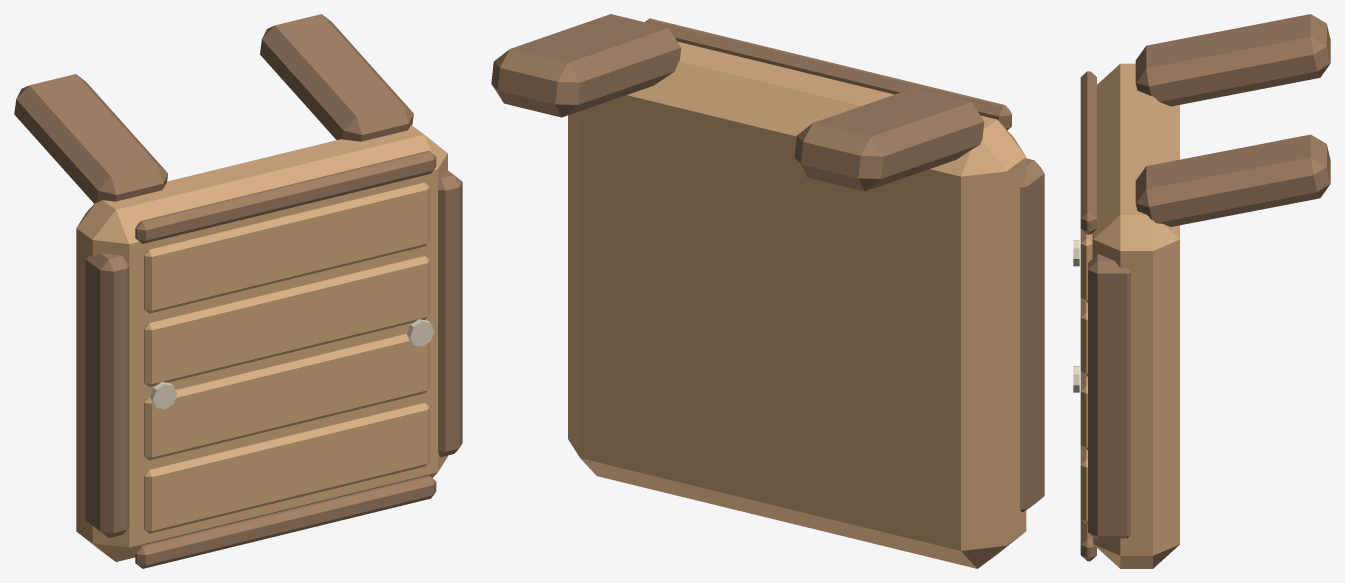
Rendered from WoodChestArmor.glb.
3 views of the same model, side by side, from view 1: azimuth 30°, elevation 25°; view 2: azimuth 150°, elevation 25°; view 3: azimuth 270°, elevation 25° (orthographic). The views are drawn at different scales.
Visible parts, largest first — view 1: ChestShell, WoodFrontBoard_0, WoodFrontBoard_3, WoodFrontBoard_2, WoodFrontBoard_1, ChestSideWrap_L, ChestShoulderAnchor_L, ChestShoulderAnchor_R, ChestTopRim, ChestBottomRim, ChestSideWrap_R, WoodBolt_L (+1 smaller); view 2: ChestShell, ChestShoulderAnchor_L, ChestShoulderAnchor_R, ChestSideWrap_L, ChestTopRim; view 3: ChestShell, ChestShoulderAnchor_R, ChestShoulderAnchor_L, ChestSideWrap_R, ChestTopRim, WoodFrontBoard_3, WoodFrontBoard_2, WoodFrontBoard_0, WoodFrontBoard_1, ChestBottomRim.
Boxes of the visible parts, box(x1,y1,x2,y2) form: ChestShell: box(76, 125, 447, 561); WoodFrontBoard_0: box(144, 402, 429, 533); WoodFrontBoard_3: box(144, 182, 429, 313); WoodFrontBoard_2: box(144, 256, 429, 386); WoodFrontBoard_1: box(144, 333, 429, 460); ChestSideWrap_L: box(85, 253, 129, 537); ChestShoulderAnchor_L: box(14, 74, 168, 203); ChestShoulderAnchor_R: box(260, 14, 413, 141); ChestTopRim: box(135, 150, 436, 243); ChestBottomRim: box(135, 475, 436, 568); ChestSideWrap_R: box(438, 169, 462, 456); WoodBolt_L: box(150, 382, 176, 409); ChestShell: box(568, 41, 1026, 568); ChestShoulderAnchor_L: box(794, 88, 984, 191); ChestShoulderAnchor_R: box(491, 14, 681, 117); ChestSideWrap_L: box(1020, 158, 1044, 512); ChestTopRim: box(645, 18, 1011, 129); ChestShell: box(1093, 63, 1179, 568); ChestShoulderAnchor_R: box(1135, 134, 1330, 226); ChestShoulderAnchor_L: box(1135, 14, 1330, 106); ChestSideWrap_R: box(1088, 254, 1130, 541); ChestTopRim: box(1080, 71, 1096, 234); WoodFrontBoard_3: box(1080, 229, 1092, 302); WoodFrontBoard_2: box(1080, 298, 1087, 376); WoodFrontBoard_0: box(1080, 445, 1087, 523); WoodFrontBoard_1: box(1080, 372, 1087, 450); ChestBottomRim: box(1080, 519, 1096, 561).
Size of the model in its own units: 0.775 by 0.8288 by 0.4747.
